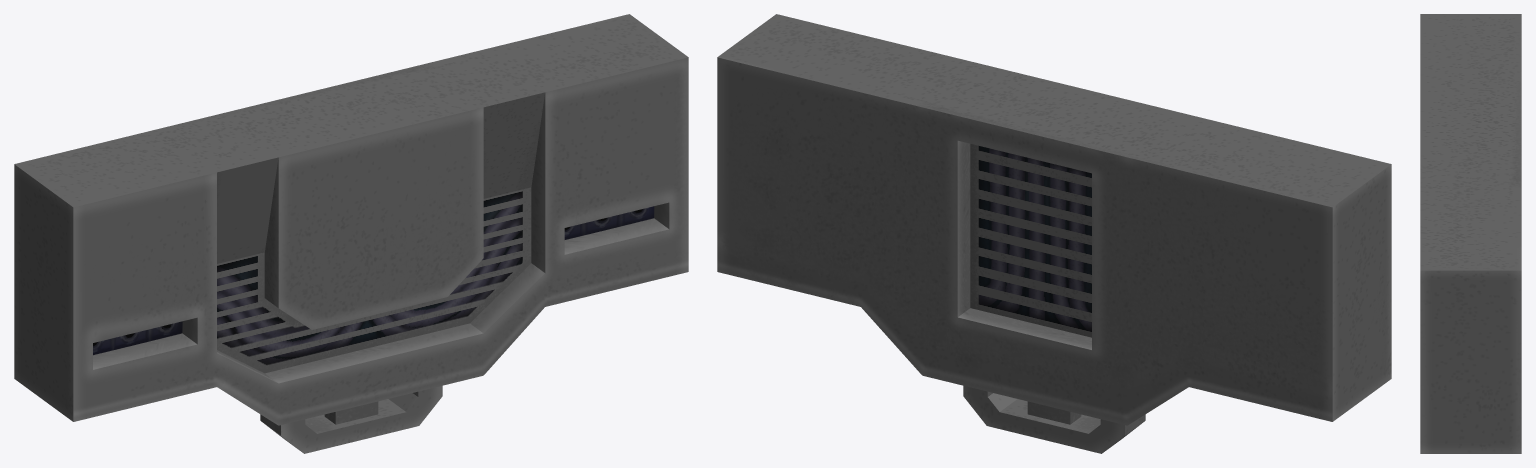
Rendered from Security Door U.fbx.
The picture shows the model from 3 angles, left to right: view 1: azimuth 30°, elevation 25°; view 2: azimuth 150°, elevation 25°; view 3: azimuth 270°, elevation 25°; orthographic projection. The views are drawn at different scales.
Parts seen in each view (by area): view 1: Door Upper; view 2: Door Upper; view 3: Door Upper.
Part boxes in pixels (x1=…): Door Upper: x1=14, y1=14, x2=688, y2=453; Door Upper: x1=717, y1=14, x2=1391, y2=453; Door Upper: x1=1420, y1=14, x2=1521, y2=453.
Size of the model in its own units: 6 by 3 by 1.
